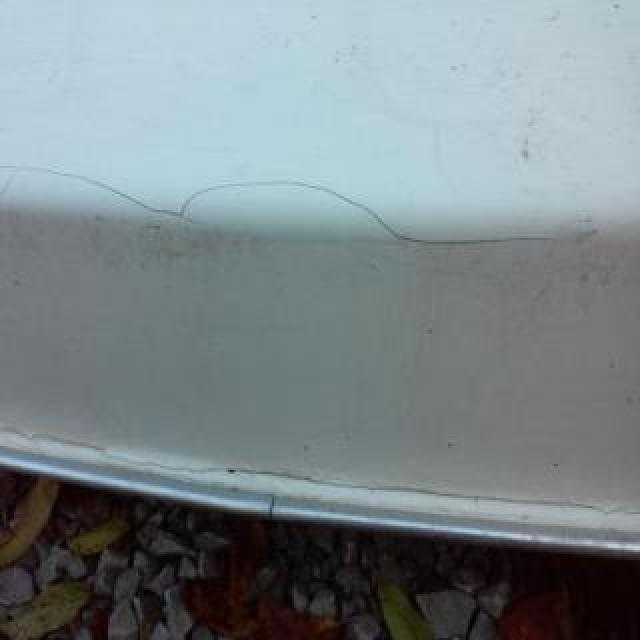crack: (0, 424, 640, 522), (0, 162, 564, 248)
